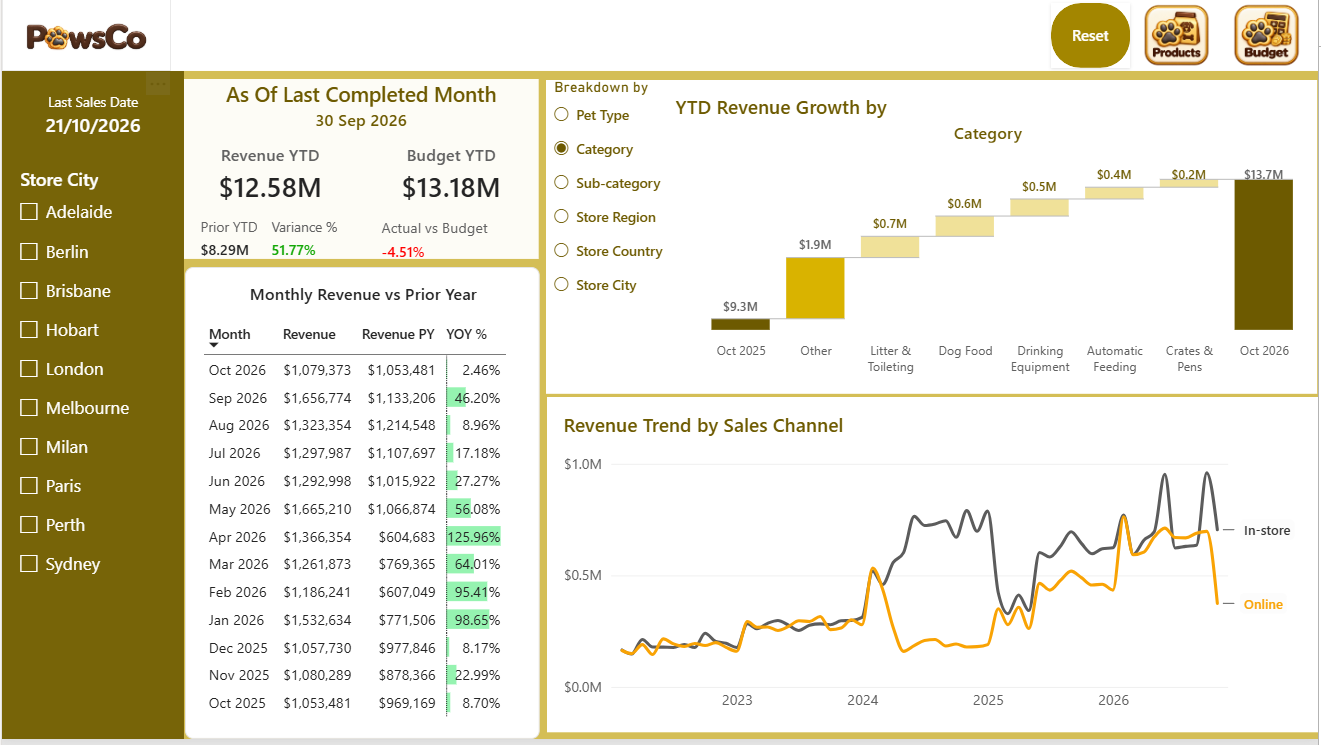

The dashboard page shown, as its layout file describes it:
{"tool":"powerbi","page":{"name":"Overview","canvas":[1280,720],"ordinal":0},"visuals":[{"type":"shape","box":[0,0,1280,70],"z":0},{"type":"shape","title":"Waterfall pane","box":[529.4,79,750,305],"z":0,"group":"g1"},{"type":"shape","title":"LineChart pane","box":[530,387,750,326],"z":0,"group":"g2"},{"type":"image","box":[0,0,164,70],"z":1000},{"type":"waterfallChart","title":"YTD Revenue Growth by","fields":{"Breakdown":["Product.CategoryL3"],"Category":["Calendar.MonthYear"],"Y":["Metrics.Revenue YTD"]},"box":[639.4,78,640,306],"z":1000,"group":"g1"},{"type":"lineChart","title":"Revenue Trend by Sales Channel","fields":{"Category":["Calendar.MonthYear"],"Series":["Sales.TransactionType"],"Y":["Metrics.Total Revenue"]},"box":[530,387,749,326],"z":1000,"group":"g2"},{"type":"shape","box":[0,70.4,177.3,650.6],"z":2000},{"type":"slicer","fields":{"Values":["Par. Overview.Par. Overview"]},"box":[529.4,78,138,306],"z":2000,"group":"g1"},{"type":"cardVisual","fields":{"Data":["Metrics.Revenue YTD","Metrics.Budget YTD (cutoffdate)"]},"box":[177,70,345,183],"z":3000},{"type":"tableEx","title":"Monthly Revenue vs Prior Year","fields":{"Values":["Calendar.MonthYear","Metrics.Total Revenue","Metrics.Revenue PY","Metrics.△ Revenue PY %"]},"box":[177.8,260.7,345,459],"z":4000},{"type":"group","id":"g1","title":"Waterfall","box":[529.4,78,749.6,306.2],"z":5000},{"type":"group","id":"g2","title":"Line + donut","box":[530,387,750,326],"z":6000},{"type":"cardVisual","fields":{"Data":["Metrics.Last Sales Date"]},"box":[14,78,150,71],"z":7000},{"type":"slicer","fields":{"Values":["store.StoreCity"]},"box":[9.9,162,157,415.8],"z":8000},{"type":"image","box":[1105.2,0,75,70.1],"z":9000},{"type":"image","box":[1192.1,0,75,70.1],"z":10000},{"type":"actionButton","box":[1020.2,4,77,63.2],"z":10001}]}

Visuals, with their boxes in screenshot pixels (x1, y1, x2, y2), scaled from the page's 1280x720 canvas onto the 1321x745 screenshot:
shape: bbox(0, 0, 1320, 72)
"Waterfall pane" shape: bbox(546, 82, 1320, 397)
"LineChart pane" shape: bbox(547, 400, 1320, 738)
image: bbox(0, 0, 169, 72)
"YTD Revenue Growth by" waterfallChart: bbox(660, 81, 1320, 397)
"Revenue Trend by Sales Channel" lineChart: bbox(547, 400, 1320, 738)
shape: bbox(0, 73, 183, 744)
slicer - Par. Overview.Par. Overview: bbox(546, 81, 689, 397)
cardVisual - Metrics.Revenue YTD x Metrics.Budget YTD (cutoffdate): bbox(183, 72, 539, 262)
"Monthly Revenue vs Prior Year" tableEx: bbox(183, 270, 540, 744)
"Waterfall" group: bbox(546, 81, 1320, 398)
"Line + donut" group: bbox(547, 400, 1320, 738)
cardVisual - Metrics.Last Sales Date: bbox(14, 81, 169, 154)
slicer - store.StoreCity: bbox(10, 168, 172, 598)
image: bbox(1141, 0, 1218, 73)
image: bbox(1230, 0, 1308, 73)
actionButton: bbox(1053, 4, 1132, 70)
